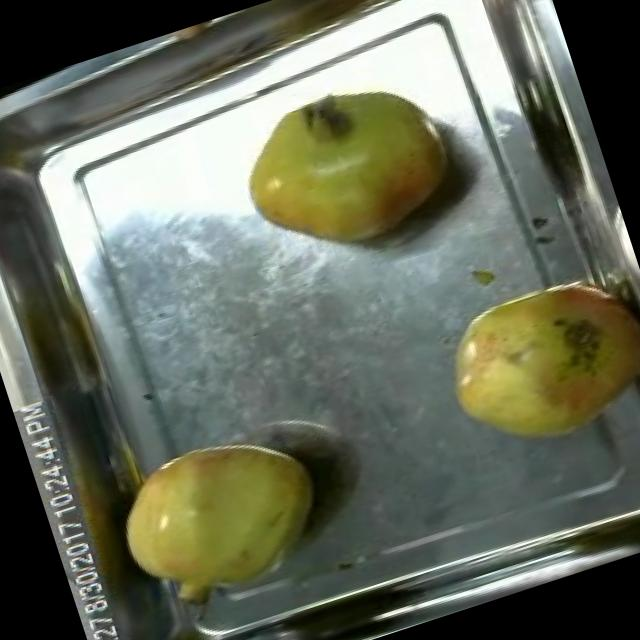fruit: (218, 57, 482, 280), (98, 407, 348, 624), (415, 240, 640, 477)
